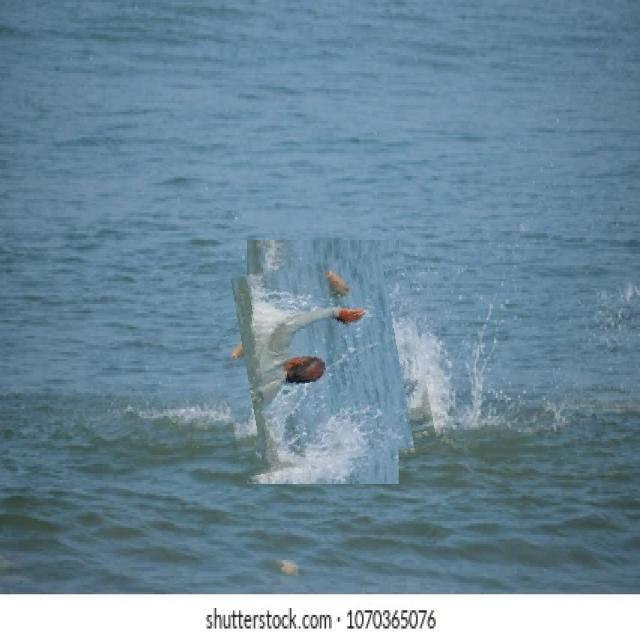Out of Water: (216, 256, 430, 470)
